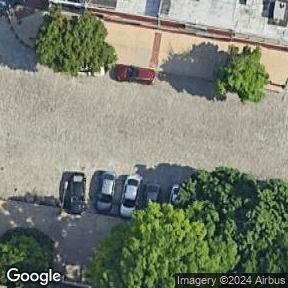vegetation: (34, 8, 119, 79), (215, 46, 269, 103), (0, 230, 53, 288)
